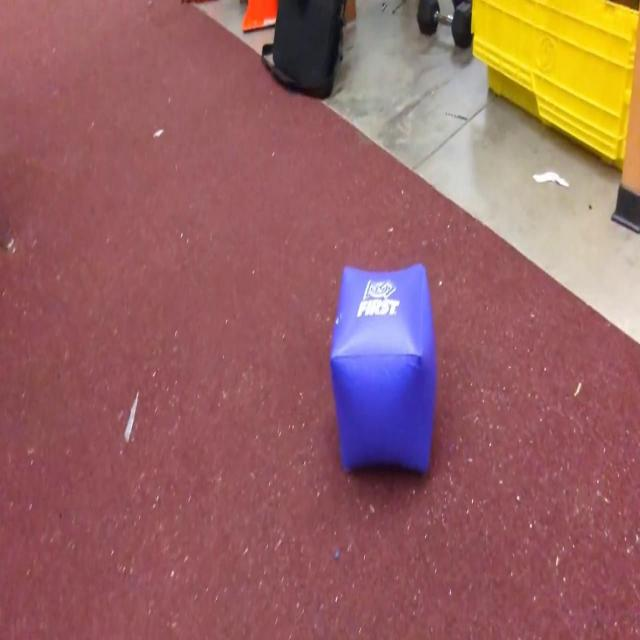frc_cube: (328, 262, 438, 476)
